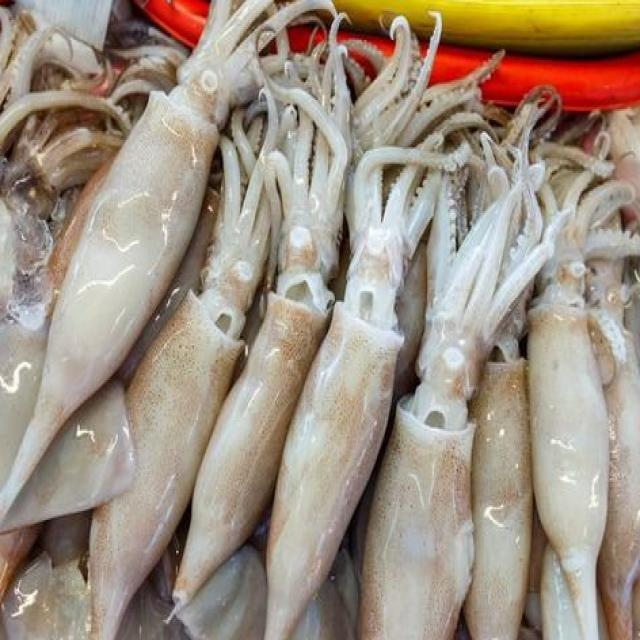SQUID: (0, 0, 309, 529), (365, 178, 523, 640), (521, 232, 619, 640)
